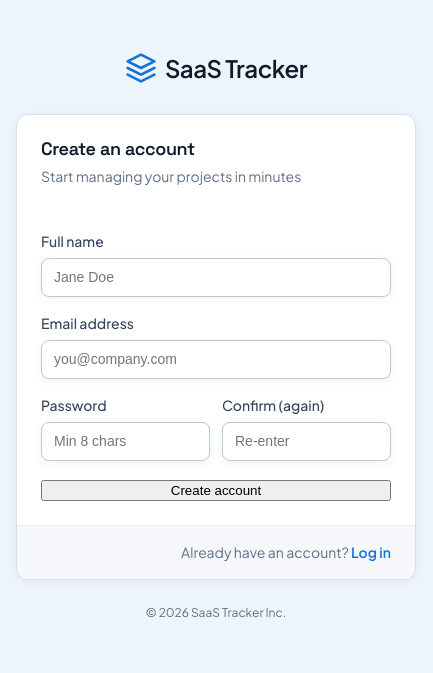
shows server connectivity message when registration request has no response
In the field labelled "Email address": (216, 360) top-left (41, 340), bottom-right (391, 379), type "new@example.com"
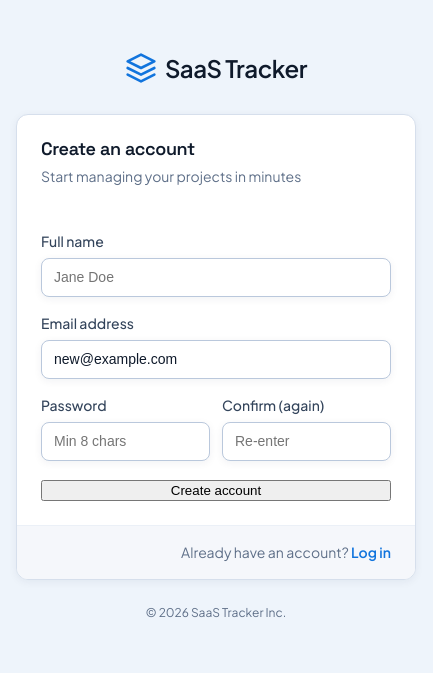
In the password field labelled "Password": (126, 442) top-left (41, 422), bottom-right (210, 461), type "StrongPass123!"
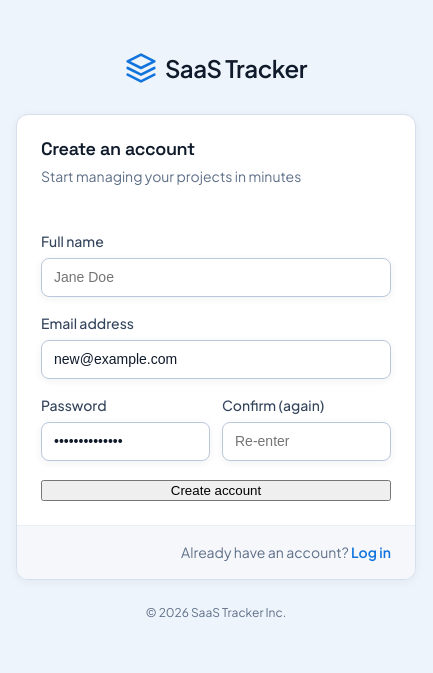
In the password field labelled "Confirm (again)": (306, 442) top-left (222, 422), bottom-right (391, 461), type "StrongPass123!"
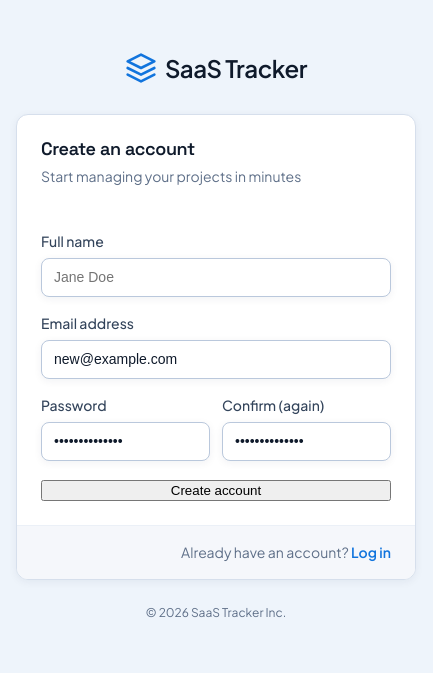
Click the button "Create account": (216, 490) top-left (41, 480), bottom-right (391, 501)
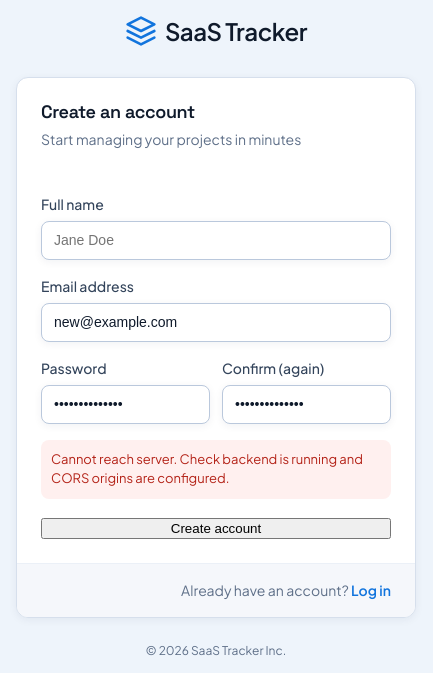
Check: the text "Cannot reach server. Check backend is running" is shown, box top-left (51, 450), bottom-right (363, 486)
